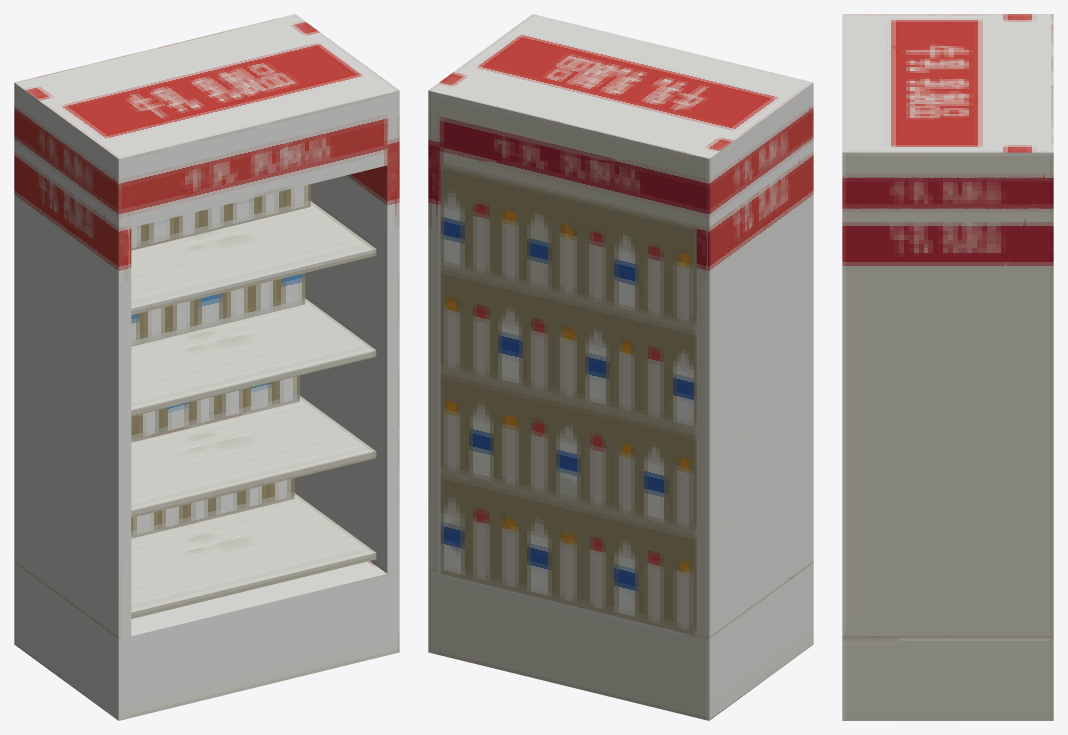
Rendered from dairycase.glb.
3 views of the same model, side by side, from view 1: azimuth 30°, elevation 25°; view 2: azimuth 150°, elevation 25°; view 3: azimuth 270°, elevation 25° (orthographic).
Parts seen in each view (by area): view 1: mesh; view 2: mesh; view 3: mesh.
Part boxes in pixels (x1,y1,x2,y2): mesh: (14, 14, 399, 720); mesh: (428, 14, 813, 720); mesh: (842, 14, 1053, 720).
Size of the model in its own units: 0.9 by 1.72 by 0.58.
Materials: 1 (1 with a texture image).
